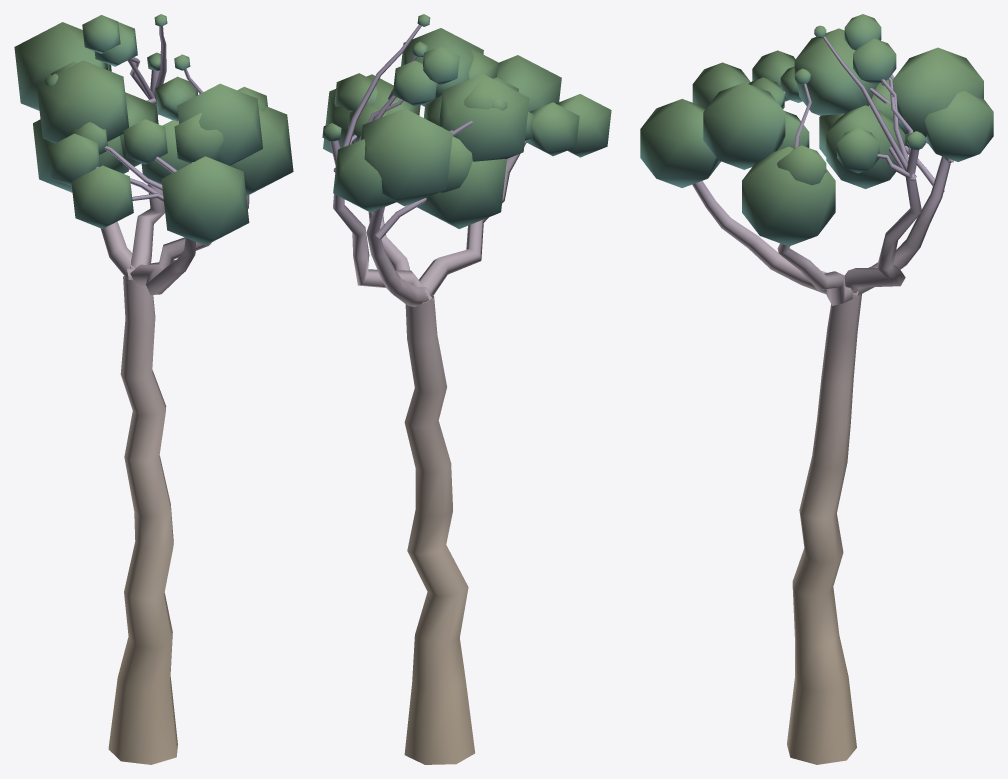
Rendered from seed_tree_h.glb.
The picture shows the model from 3 angles, left to right: view 1: azimuth 30°, elevation 25°; view 2: azimuth 150°, elevation 25°; view 3: azimuth 270°, elevation 25°; orthographic projection.
Parts seen in each view (by area): view 1: seed_tree_h_LOD0; view 2: seed_tree_h_LOD0; view 3: seed_tree_h_LOD0.
Part boxes in pixels (x1,y1,x2,y2): seed_tree_h_LOD0: (14, 14, 293, 764); seed_tree_h_LOD0: (322, 14, 611, 764); seed_tree_h_LOD0: (640, 14, 993, 764).
Size of what is drawn, in the model's own units: 3.96 by 11.32 by 4.96.
